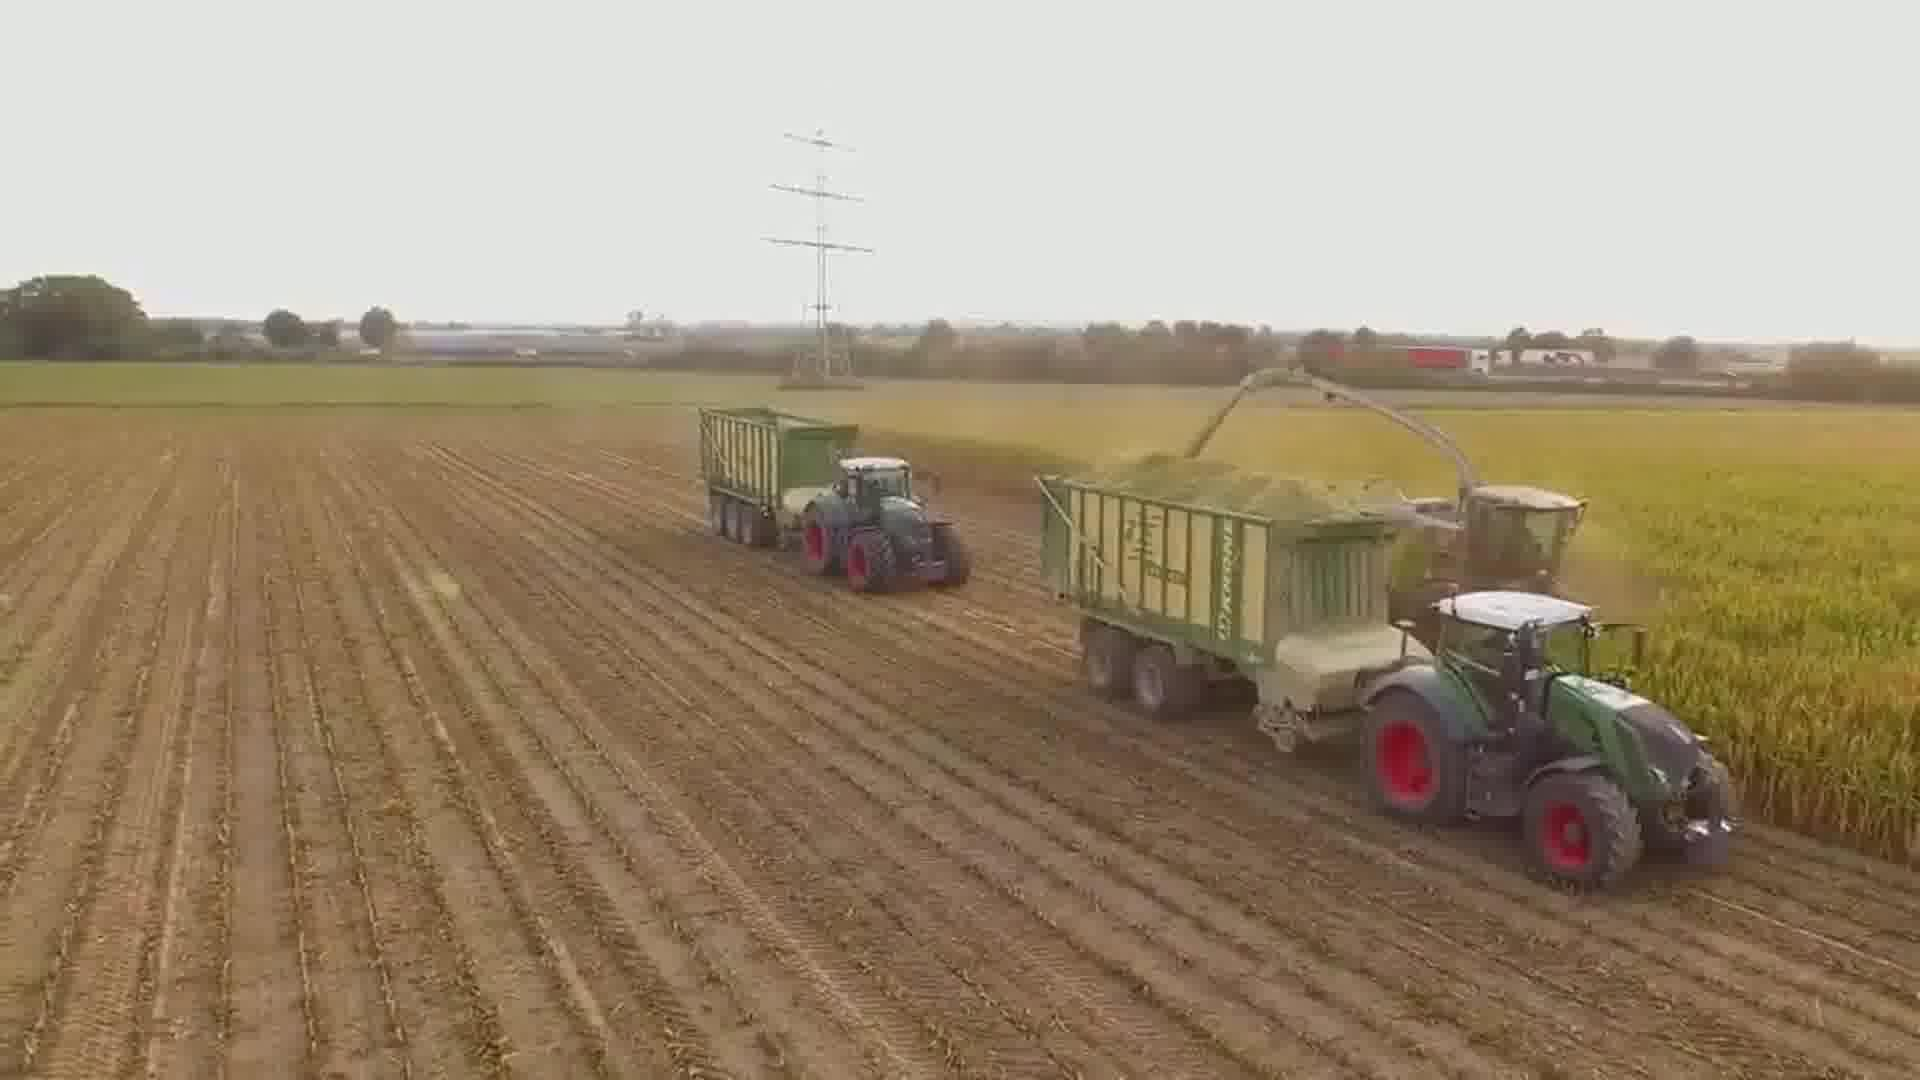combine harvester: (1233, 360, 1594, 604)
tractor: (1351, 580, 1747, 897), (796, 449, 980, 601)
trailer: (1037, 449, 1436, 766), (696, 401, 869, 563)
